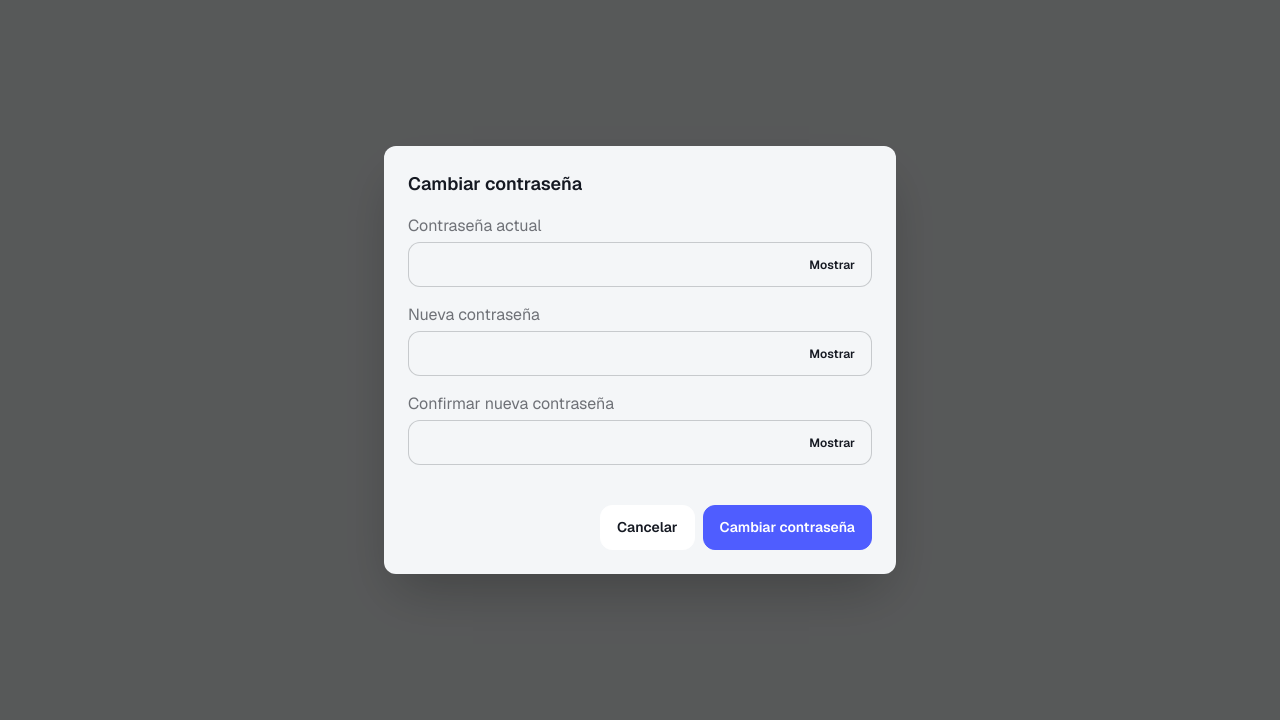
Scenario: ChangePasswordDialog › informa un fallo de red y conserva lo ingresado (RF-18)
Type "actual8" into the password field labelled "Contraseña actual".
click(640, 264); type("actual8")  # box x1=408 y1=242 x2=872 y2=287
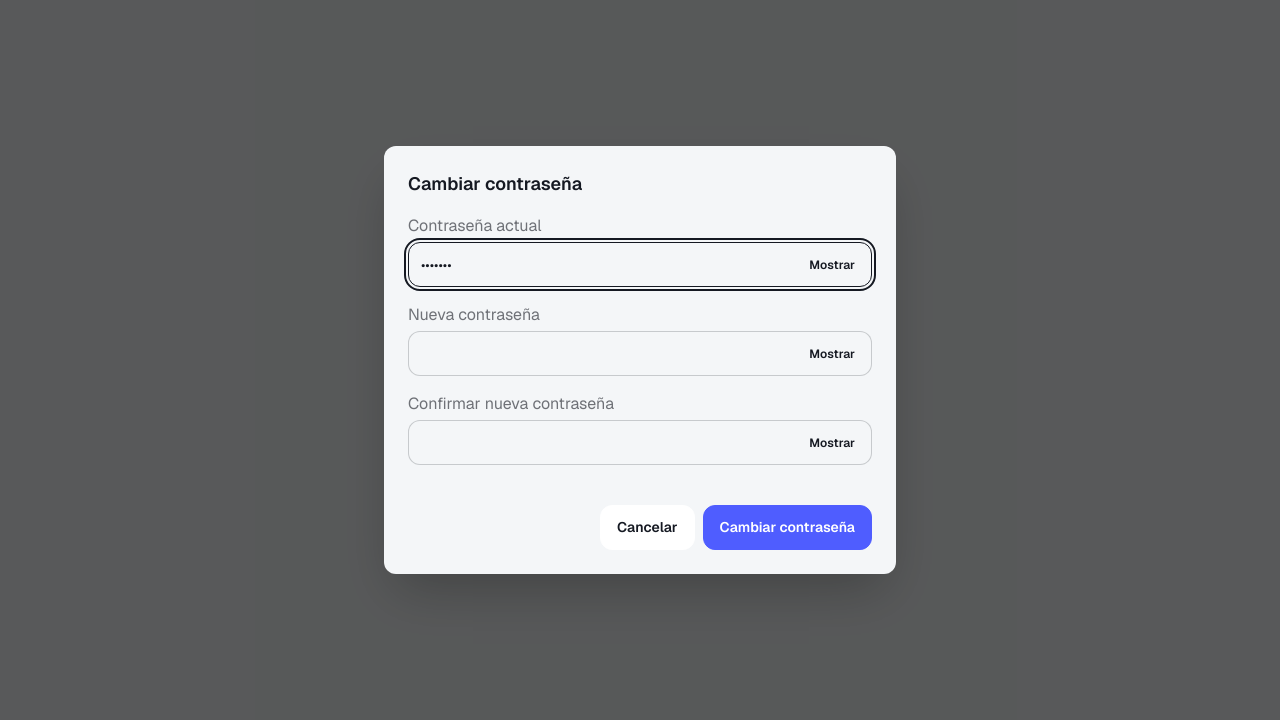
Type "nueva123" into the password field labelled "Nueva contraseña".
click(640, 354); type("nueva123")  # box x1=408 y1=331 x2=872 y2=376
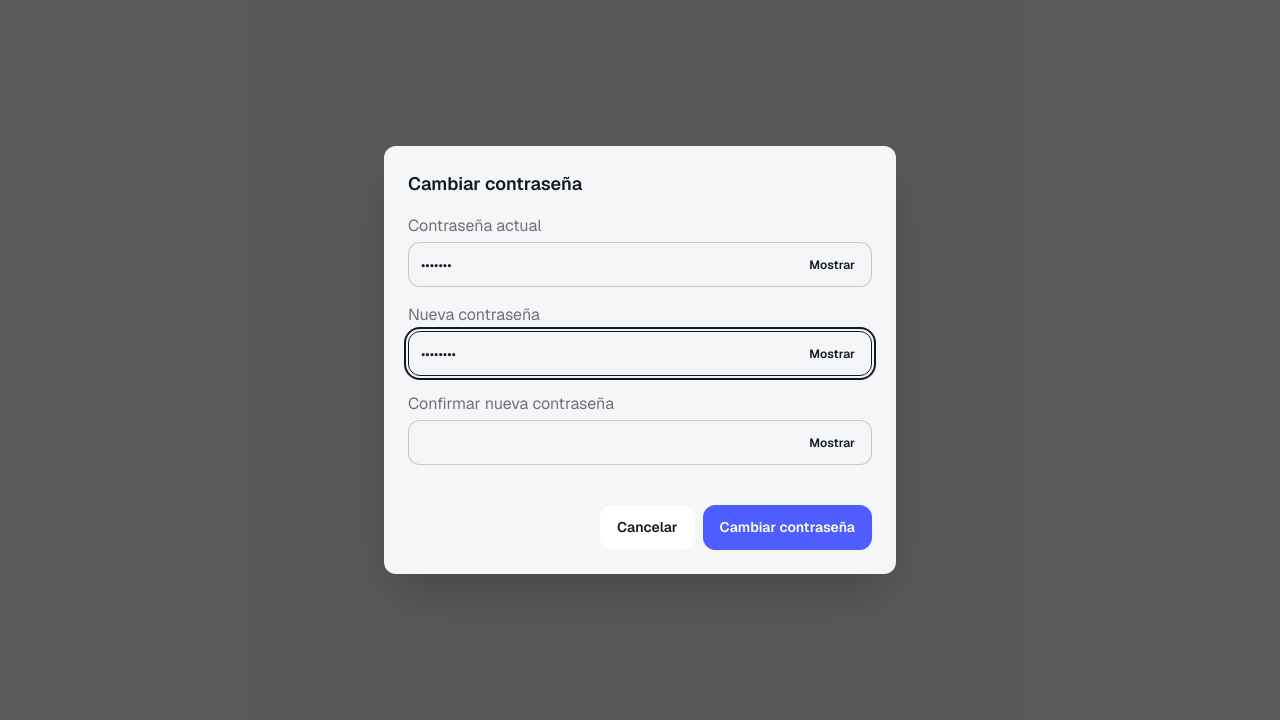
Type "nueva123" into the password field labelled "Confirmar nueva contraseña".
click(640, 442); type("nueva123")  # box x1=408 y1=420 x2=872 y2=465
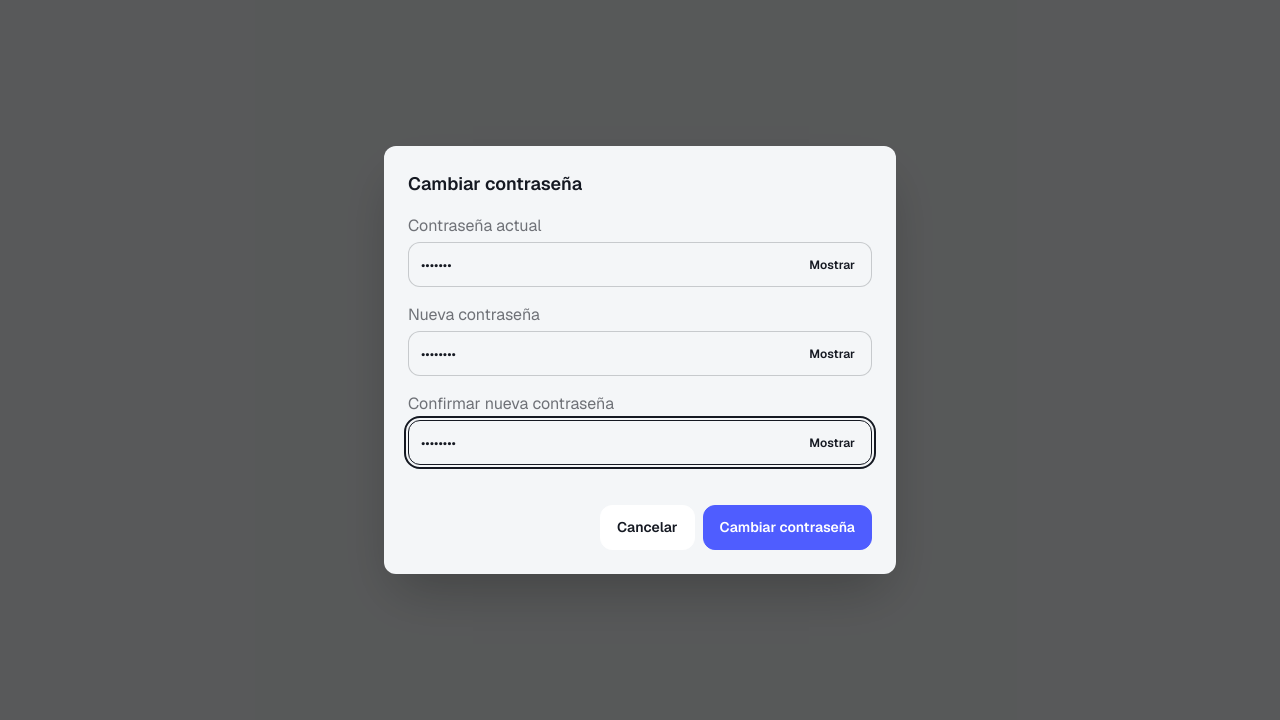
Click the button "Cambiar contraseña".
click(787, 528)  # box x1=703 y1=505 x2=872 y2=550
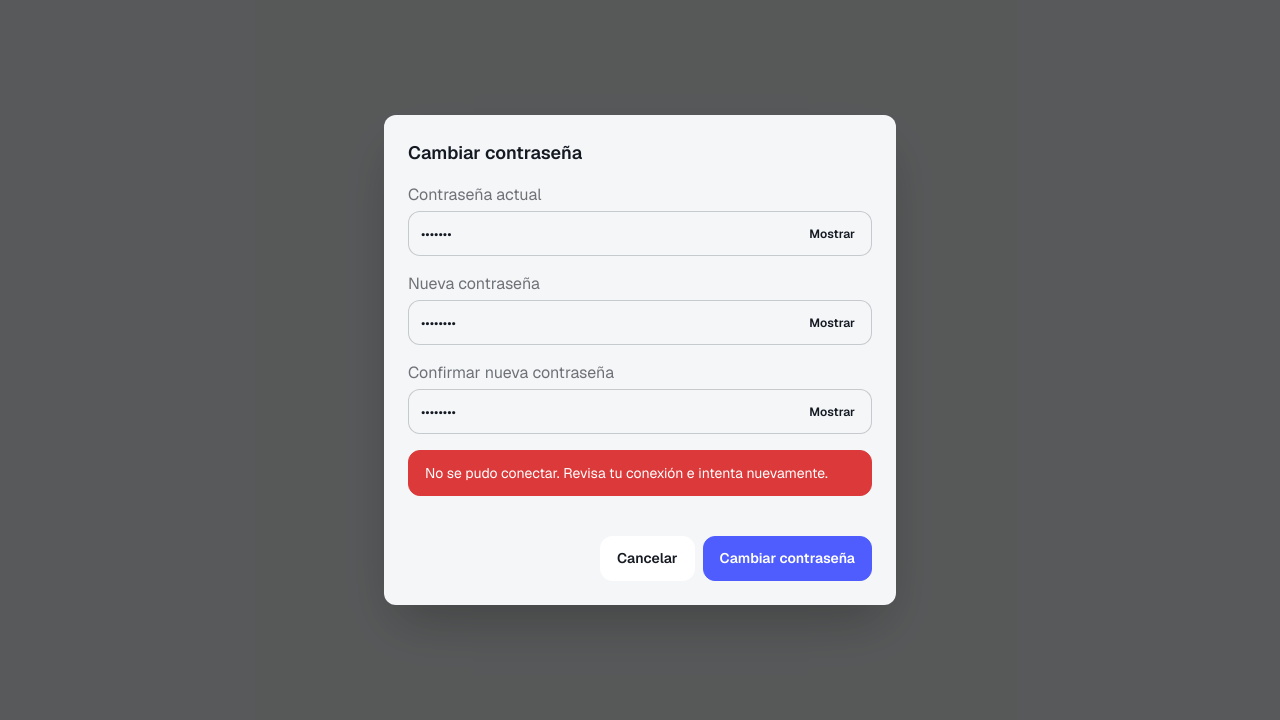
Expected: the text "No se pudo conectar. Revisa tu conexión e intenta nuevamente." is shown, x1=408 y1=450 x2=872 y2=496
